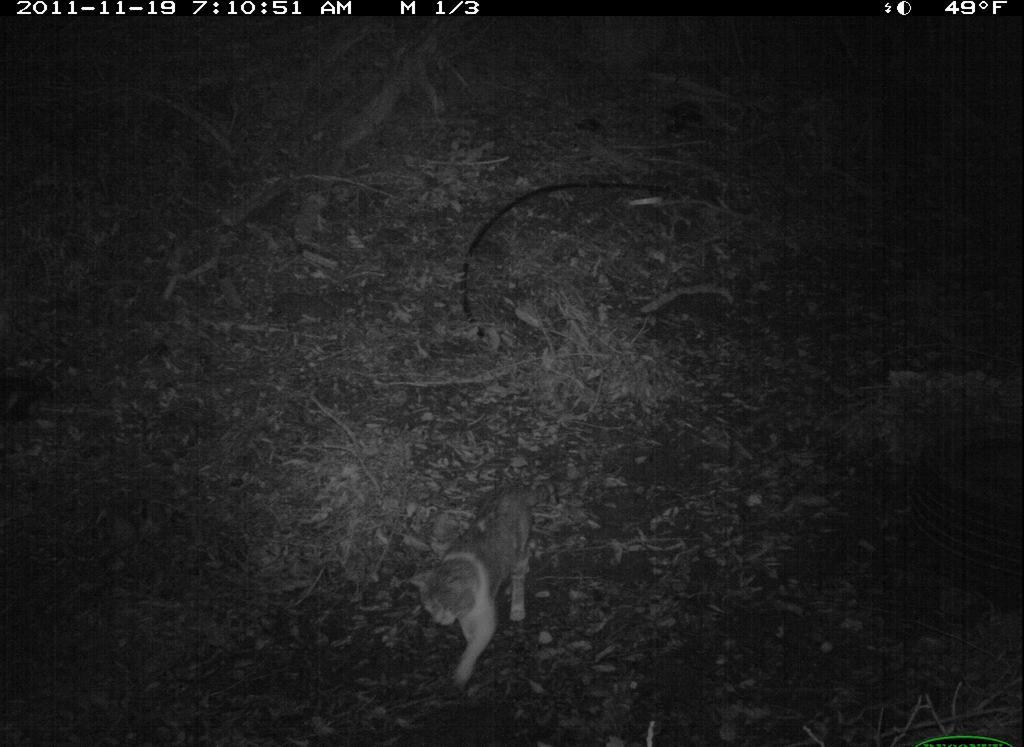cat: (400, 474, 565, 690)
